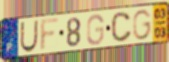8: (66, 16, 82, 48)
C: (110, 11, 133, 43)
F: (38, 16, 61, 54)
G: (132, 9, 153, 42), (86, 13, 105, 47)
U: (19, 19, 39, 54)
